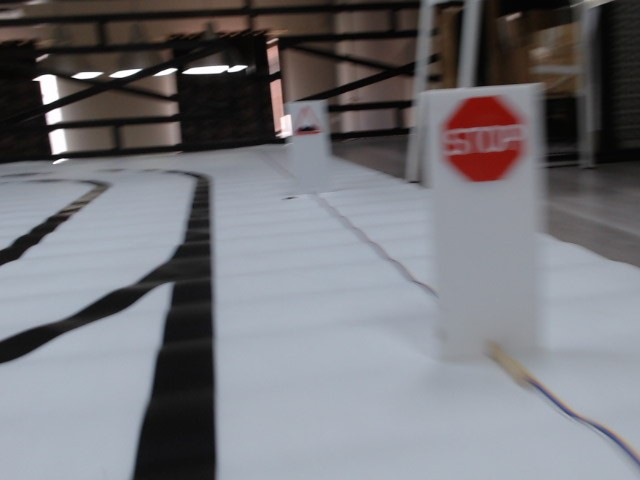Nerov: (293, 106, 321, 136)
Stop: (441, 95, 528, 182)
